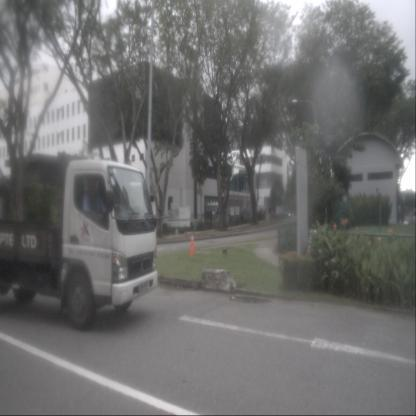movable_object-trafficcone: (189, 233, 196, 256)
vehicle-car: (274, 210, 292, 220)
vehicle-truck: (0, 158, 159, 331)
